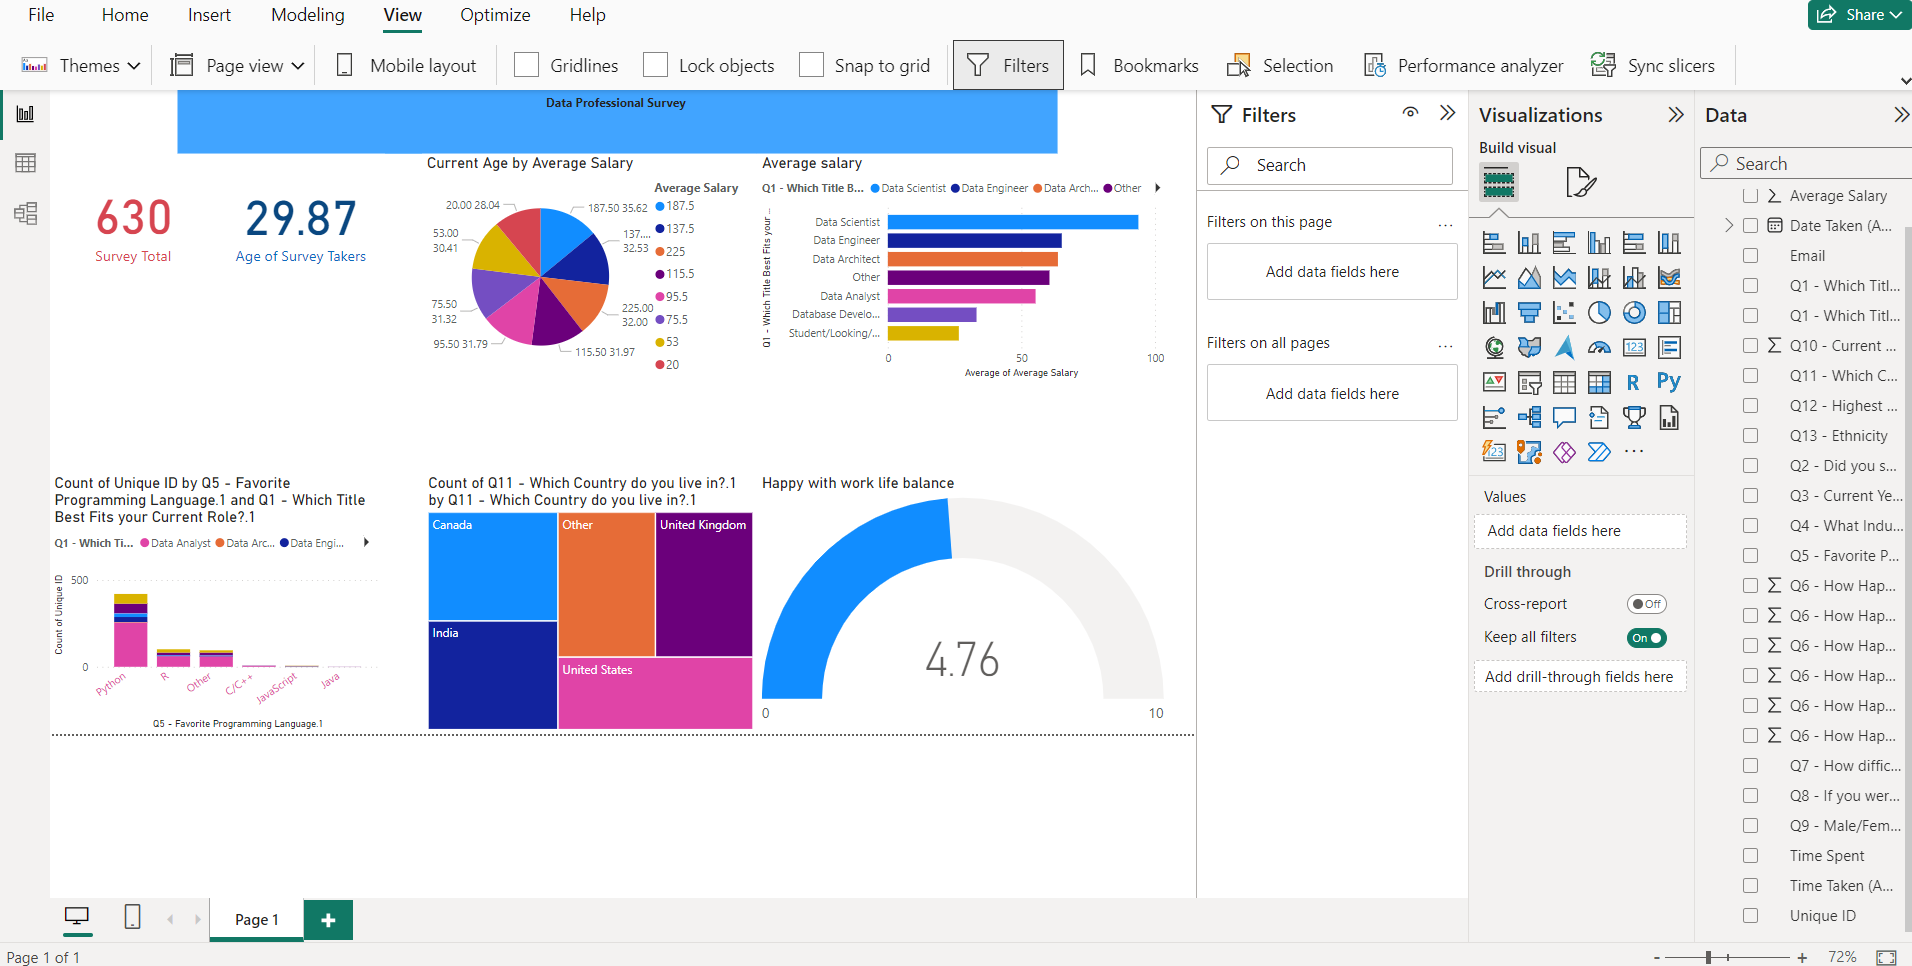

Layout of this report page (visuals, bound fields, positions):
{"tool":"powerbi","page":{"name":"Page 1","canvas":[1280,720],"ordinal":0},"visuals":[{"type":"textbox","box":[142.6,0,983,71.3],"z":0},{"type":"card","fields":{"Values":["CountNonNull(Data Professional Survey.Unique ID)"]},"box":[0,71.3,186.5,149.4],"z":1000},{"type":"card","fields":{"Values":["Avg(Data Professional Survey.Q10 - Current Age)"]},"box":[186.5,71.3,186.5,150.8],"z":2000},{"type":"pieChart","fields":{"Y":["Avg(Data Professional Survey.Q10 - Current Age)"],"Category":["Data Professional Survey.Average Salary"]},"box":[416.8,71.3,372.9,256.4],"z":3000},{"type":"barChart","title":"Average salary","fields":{"Category":["Data Professional Survey.Q1 - Which Title Best Fits your Current Role?.1"],"Y":["Avg(Data Professional Survey.Average Salary)"],"Series":["Data Professional Survey.Q1 - Which Title Best Fits your Current Role?.1"]},"box":[789.7,71.3,459.3,256.4],"z":4000},{"type":"columnChart","fields":{"Category":["Data Professional Survey.Q5 - Favorite Programming Language.1"],"Y":["CountNonNull(Data Professional Survey.Unique ID)"],"Series":["Data Professional Survey.Q1 - Which Title Best Fits your Current Role?.1"]},"box":[0,429.1,372.9,290.7],"z":5000},{"type":"treemap","fields":{"Group":["Data Professional Survey.Q11 - Which Country do you live in?.1"],"Values":["Count(Data Professional Survey.Q11 - Which Country do you live in?.1)"]},"box":[417,429,373,291],"z":6000},{"type":"gauge","title":"Happy with work life balance","fields":{"Y":["Avg(Data Professional Survey.Q6 - How Happy are you in your Current Position with the following? (Upward Mobility))"],"MinValue":["Min(Data Professional Survey.Q6 - How Happy are you in your Current Position with the following? (Upward Mobility))"],"MaxValue":["Max(Data Professional Survey.Q6 - How Happy are you in your Current Position with the following? (Upward Mobility))"]},"box":[790,429,459,291],"z":6001}]}

Visuals, with their boxes on the page's 1280x720 design canvas (x1, y1, x2, y2). These are canvas units, not pixel positions in the 1912x966 screenshot, which may show the page scaled, cropped or inside an application window:
textbox: x1=143 y1=0 x2=1126 y2=71
card - CountNonNull(Data Professional Survey.Unique ID): x1=0 y1=71 x2=186 y2=221
card - Avg(Data Professional Survey.Q10 - Current Age): x1=186 y1=71 x2=373 y2=222
pieChart - Avg(Data Professional Survey.Q10 - Current Age) x Data Professional Survey.Average Salary: x1=417 y1=71 x2=790 y2=328
"Average salary" barChart: x1=790 y1=71 x2=1249 y2=328
columnChart - Data Professional Survey.Q5 - Favorite Programming Language.1 x CountNonNull(Data Professional Survey.Unique ID): x1=0 y1=429 x2=373 y2=720
treemap - Data Professional Survey.Q11 - Which Country do you live in?.1 x Count(Data Professional Survey.Q11 - Which Country do you live in?.1): x1=417 y1=429 x2=790 y2=720
"Happy with work life balance" gauge: x1=790 y1=429 x2=1249 y2=720
